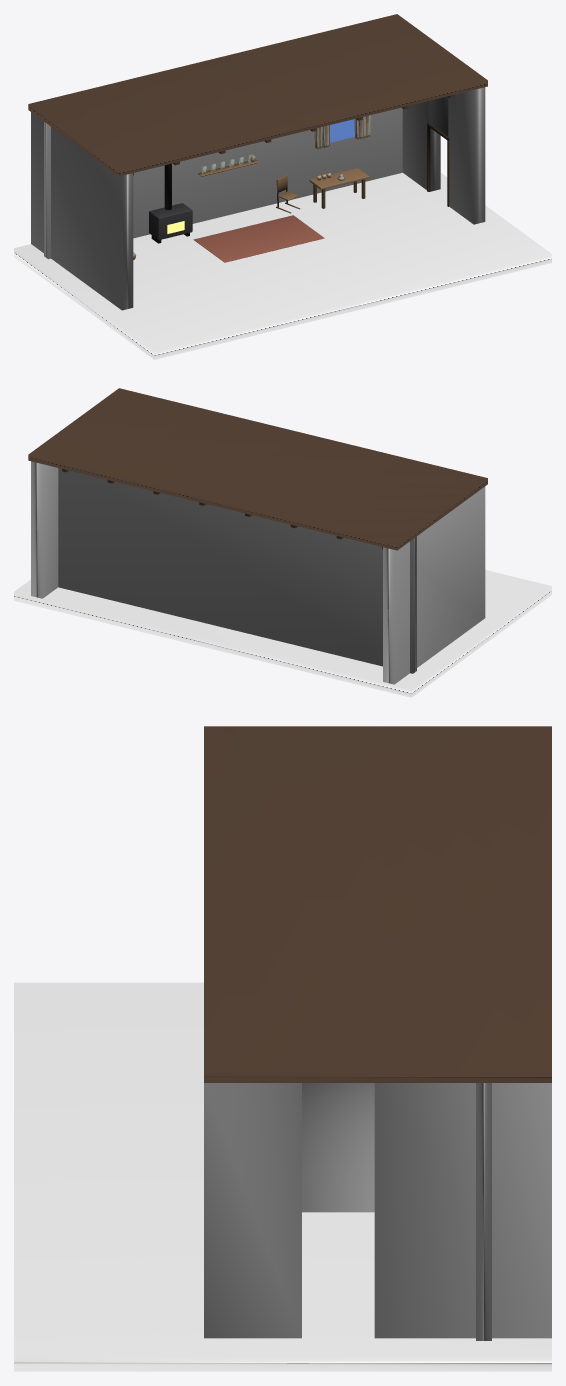
File: cabin.glb
The picture shows the model from 3 angles, top to bottom: view 1: azimuth 30°, elevation 25°; view 2: azimuth 150°, elevation 25°; view 3: azimuth 270°, elevation 25°; orthographic projection. The views are drawn at different scales.
Visible parts, largest first — view 1: Floor, Ceiling, Wall • back, Wall • left, Wall • right b, Rug, Wall • right a, Stove, Wall • over door, Table, Window • night; view 2: Wall • back, Ceiling, Floor, Wall • left, Wall • right a; view 3: Ceiling, Floor, Wall • right a, Wall • right b, Wall • over door, Wall • back.
Part boxes in pixels (x1,y1,x2,y2): Floor: [14, 172, 551, 359]; Ceiling: [28, 14, 487, 176]; Wall • back: [44, 107, 402, 259]; Wall • left: [31, 112, 133, 310]; Wall • right b: [448, 87, 485, 224]; Rug: [193, 215, 324, 262]; Wall • right a: [402, 101, 440, 191]; Stove: [149, 203, 192, 239]; Wall • over door: [429, 96, 448, 136]; Table: [309, 168, 369, 189]; Window • night: [330, 119, 354, 142]; Wall • back: [58, 468, 416, 673]; Ceiling: [28, 388, 487, 550]; Floor: [14, 570, 551, 697]; Wall • left: [383, 486, 485, 684]; Wall • right a: [31, 461, 58, 598]; Ceiling: [204, 726, 551, 1082]; Floor: [14, 982, 551, 1371]; Wall • right a: [374, 1083, 551, 1338]; Wall • right b: [204, 1083, 301, 1338]; Wall • over door: [302, 1083, 374, 1212]; Wall • back: [476, 1083, 491, 1340].
Bounding box in the file's own units: 27.8 × 10 × 17.
